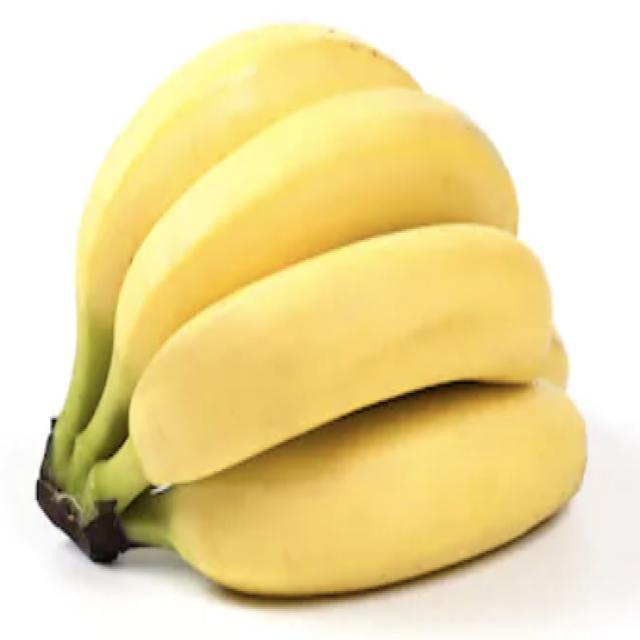Banana: (36, 22, 587, 598)
